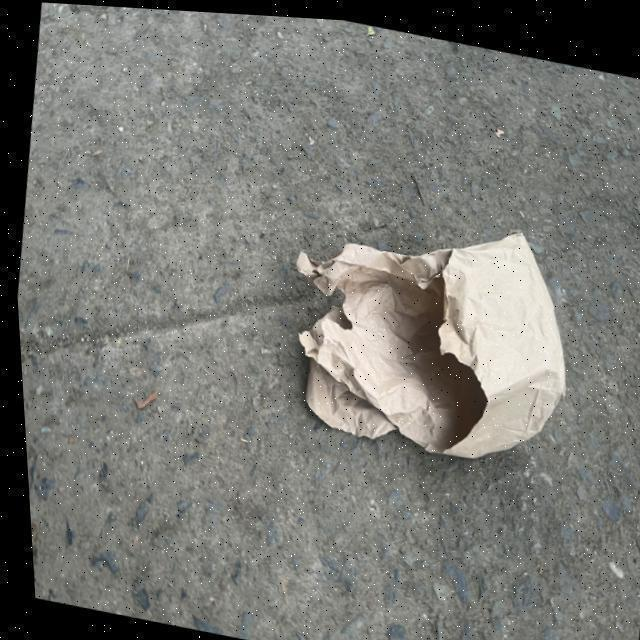Paper_Bag: (262, 185, 588, 476)
